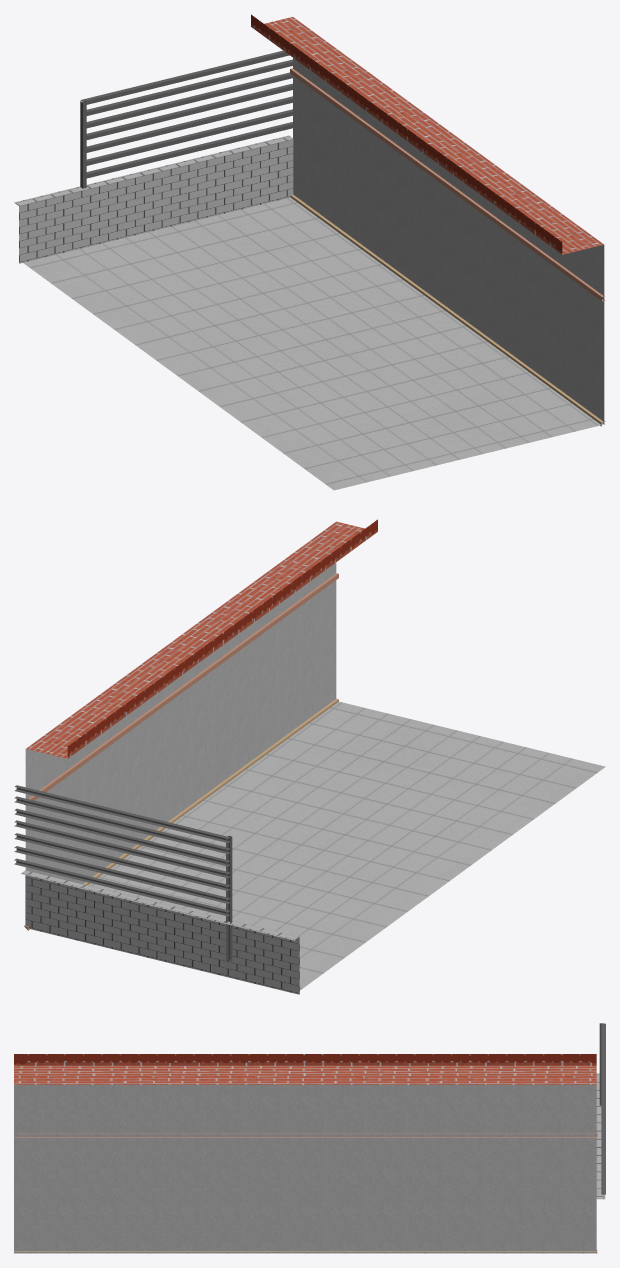
3 renders of one model, top to bottom at view 1: azimuth 30°, elevation 25°; view 2: azimuth 150°, elevation 25°; view 3: azimuth 270°, elevation 25°, orthographic. The views are drawn at different scales.
Visible parts, largest first — view 1: 3 bg.027, 3 bg.030; view 2: 3 bg.027, 3 bg.030; view 3: 3 bg.027, 3 bg.030.
Part boxes in pixels (x1,y1,x2,y2): 3 bg.027: (14, 14, 605, 490); 3 bg.030: (80, 50, 292, 188); 3 bg.027: (21, 519, 605, 994); 3 bg.030: (14, 785, 232, 961); 3 bg.027: (14, 1054, 605, 1253); 3 bg.030: (599, 1023, 605, 1194).
Size of the model in its own units: 2490 by 1642 by 4848.
1 material, 1 textured.
